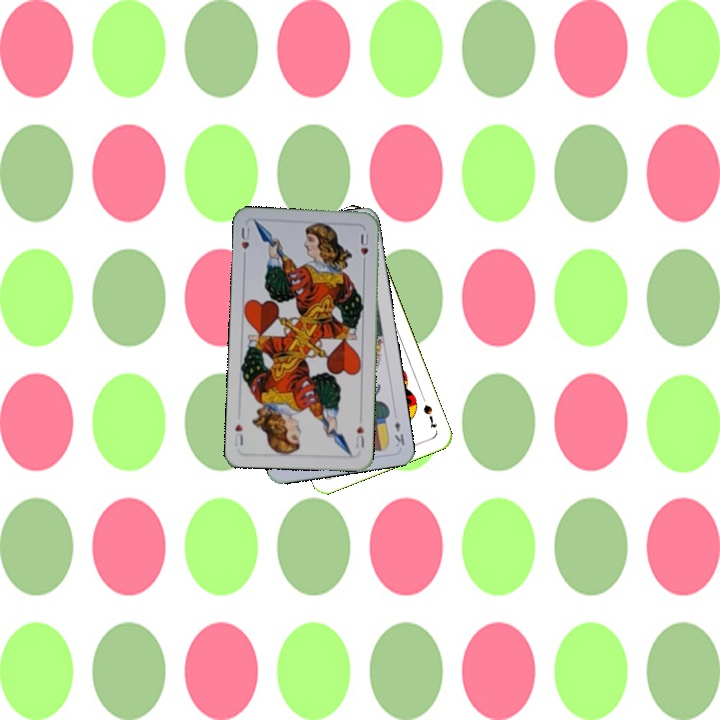EK: (390, 417, 407, 450)
HU: (237, 223, 252, 262), (352, 422, 367, 450)
S7: (419, 400, 439, 431)
